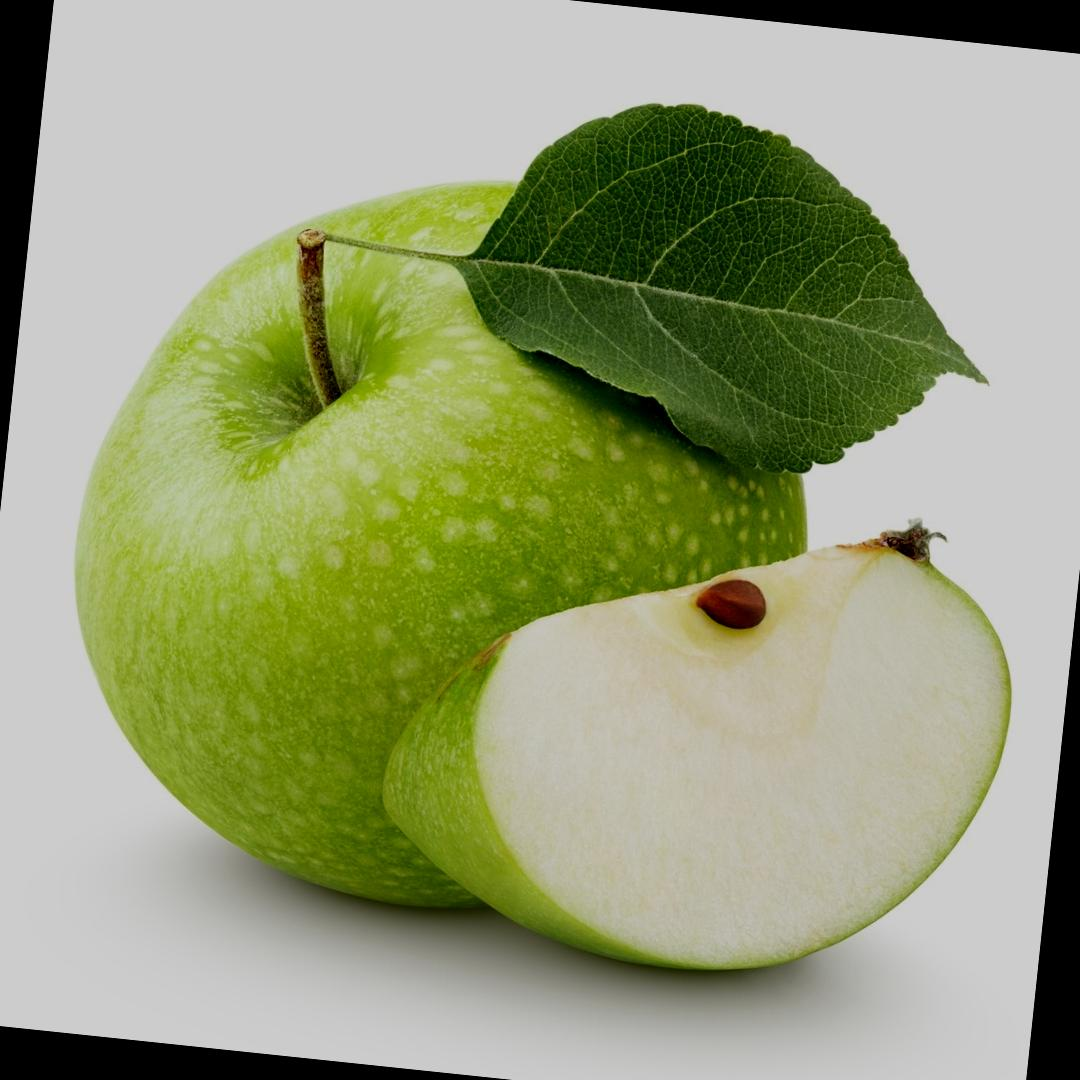Apple Unripe: (36, 98, 1080, 967)
